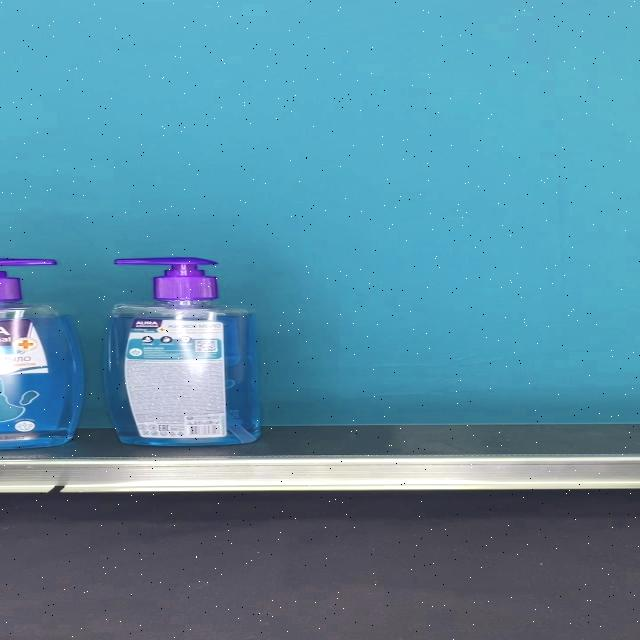Bottle: (104, 257, 262, 445)
Cap: (113, 258, 217, 300)
